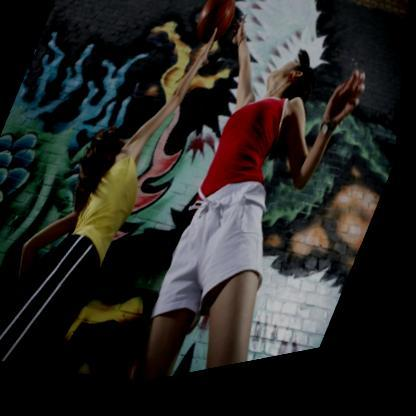basketball: (189, 0, 245, 61)
